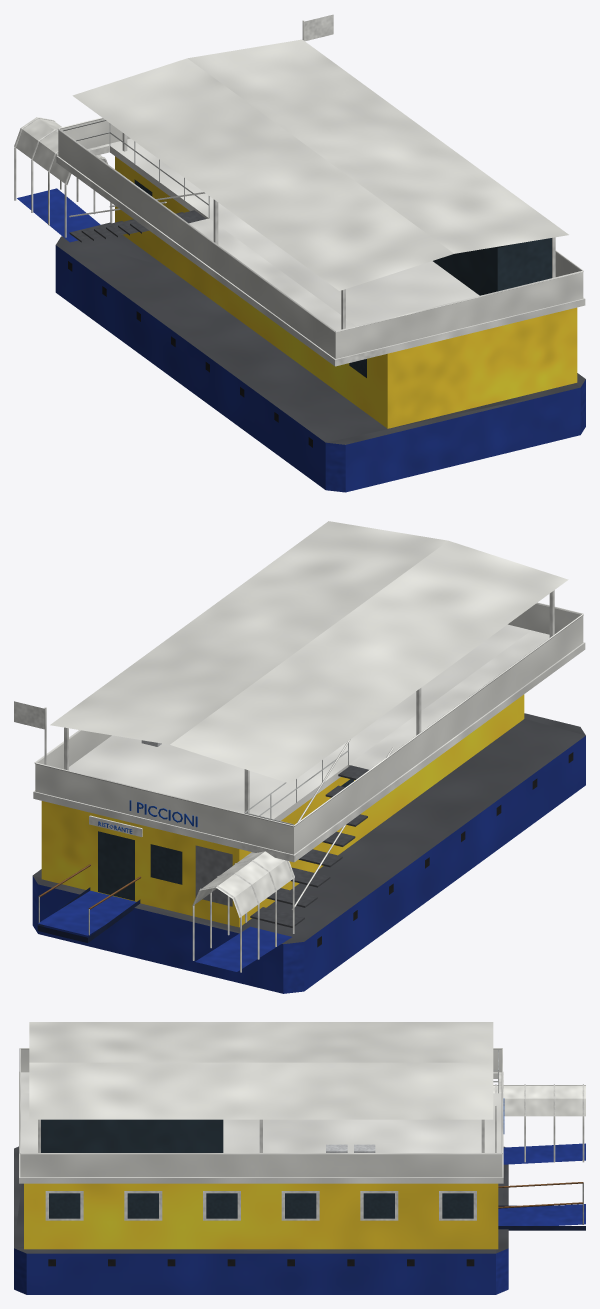
The model's file is SM_MoloItalia_RistorantePiccioni_v2_LOD1.fbx.
The picture shows the model from 3 angles, top to bottom: view 1: azimuth 30°, elevation 25°; view 2: azimuth 150°, elevation 25°; view 3: azimuth 270°, elevation 25°; orthographic projection. The views are drawn at different scales.
Parts seen in each view (by area): view 1: SM_MoloItalia_RistorantePiccioni_v2_LOD1; view 2: SM_MoloItalia_RistorantePiccioni_v2_LOD1; view 3: SM_MoloItalia_RistorantePiccioni_v2_LOD1.
Boxes of the visible parts, x1,y1,x2,y2 form: SM_MoloItalia_RistorantePiccioni_v2_LOD1: (14,14,585,492); SM_MoloItalia_RistorantePiccioni_v2_LOD1: (14,521,585,993); SM_MoloItalia_RistorantePiccioni_v2_LOD1: (14,1022,585,1294).
Bounding box in the file's own units: 1101 × 2255 × 800.
1 material, 1 textured.
